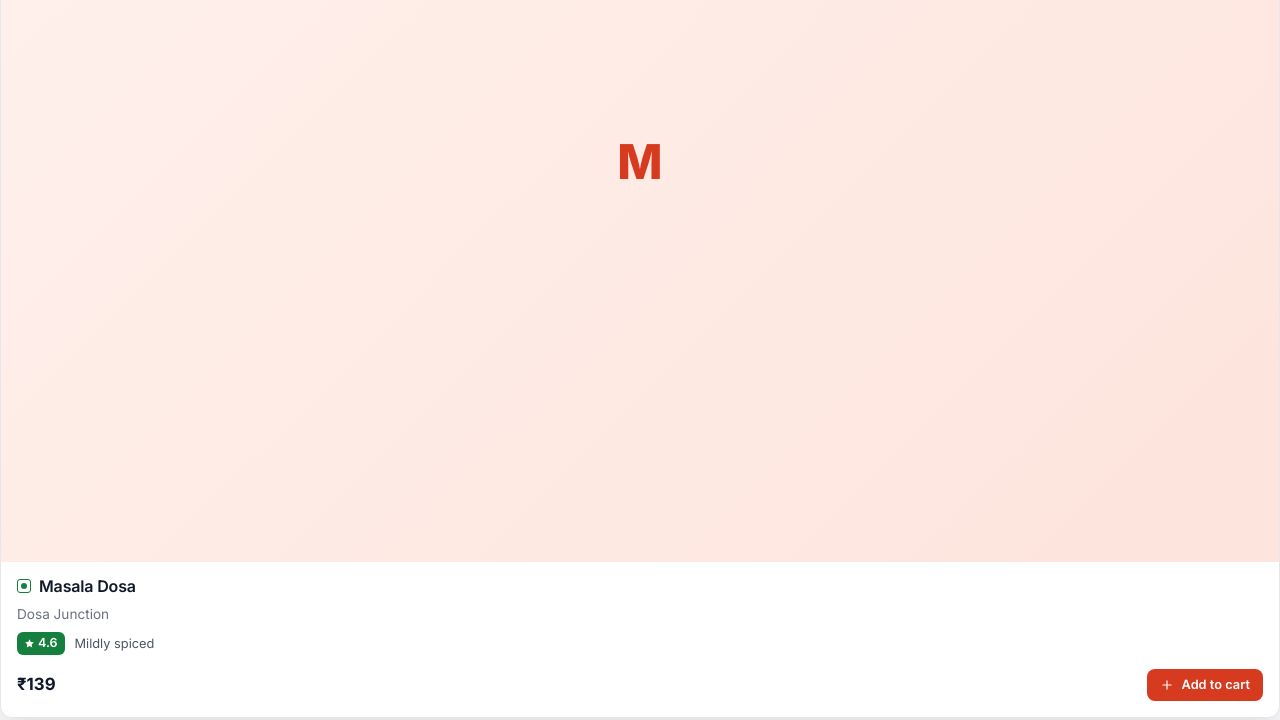
FoodCard › sends anonymous users to login instead of adding
(page scrolled)
Click the button "Add to cart": (1205, 685) [1146,669,1263,701]
(page scrolled)
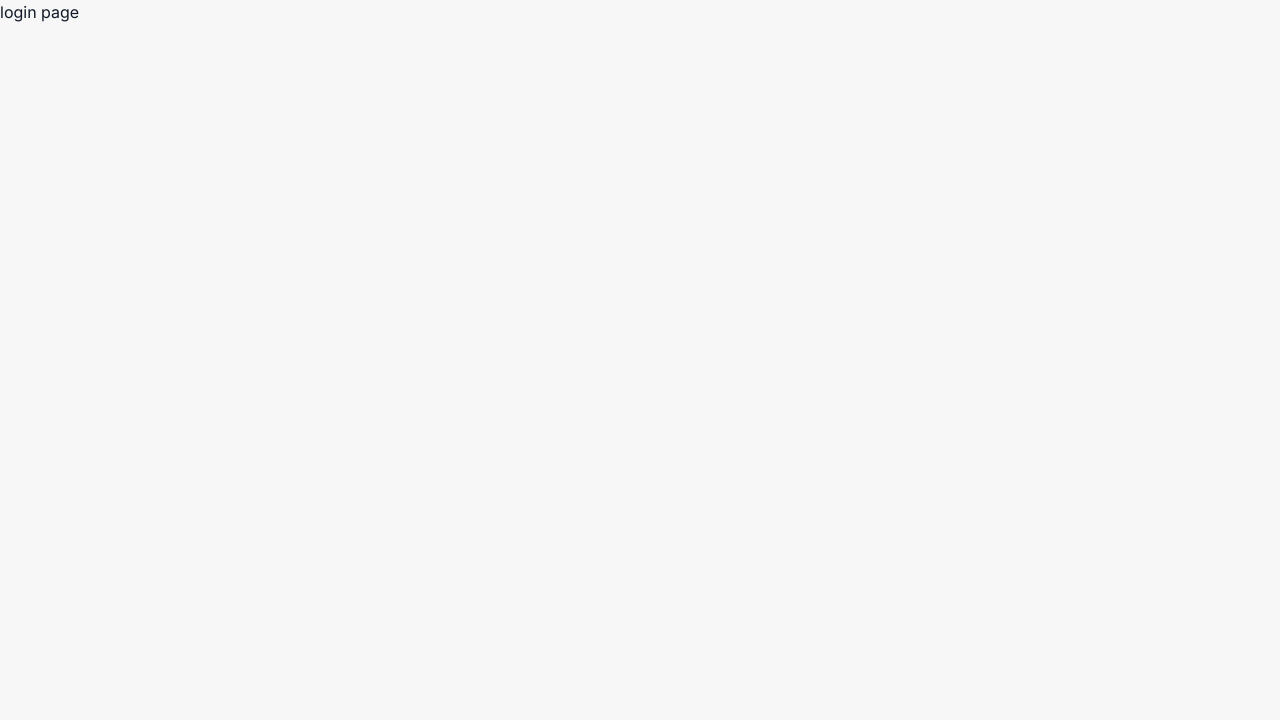
Check: the text "login page" is shown, box [0,2,79,22]
